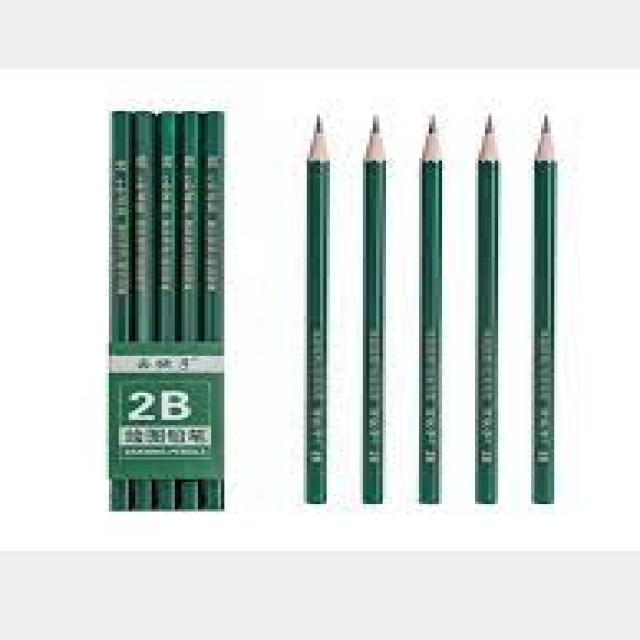pencil: (517, 111, 567, 512), (406, 112, 452, 514), (463, 112, 507, 512), (349, 112, 392, 511), (293, 113, 335, 510), (99, 106, 133, 514), (199, 110, 228, 514), (130, 108, 158, 515), (157, 111, 182, 516), (178, 108, 202, 519)
